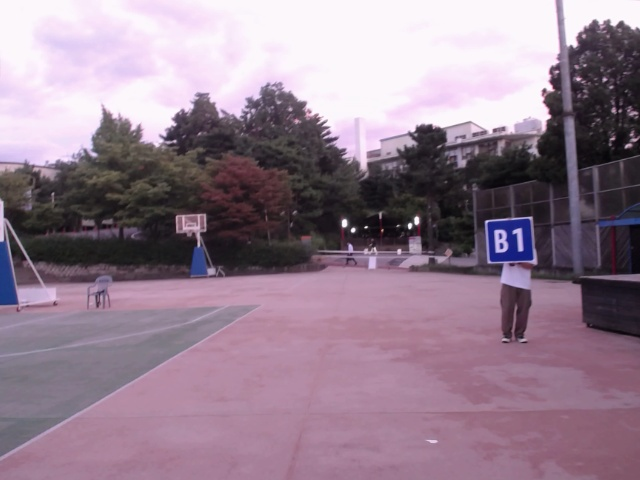delivery_b1: (487, 217, 534, 263)
